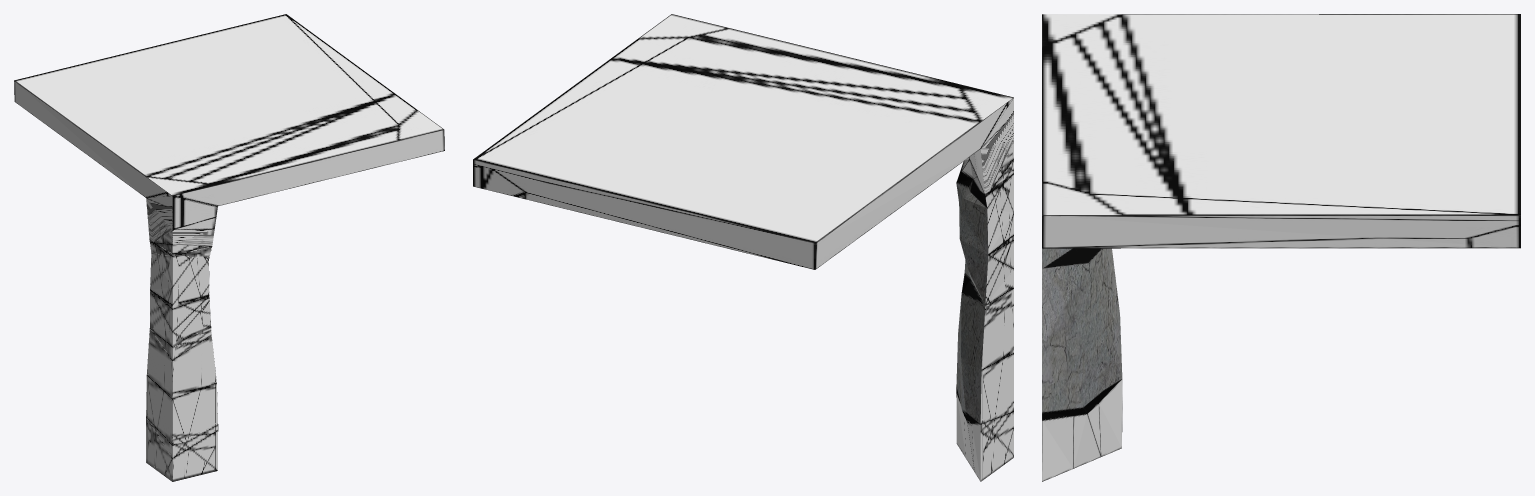
The model's file is EspacioPirateriaEsquinaAperturaInteriorNI.gltf.
The picture shows the model from 3 angles, left to right: view 1: azimuth 30°, elevation 25°; view 2: azimuth 150°, elevation 25°; view 3: azimuth 270°, elevation 25°; orthographic projection. The views are drawn at different scales.
Parts seen in each view (by area): view 1: Cubo.27; view 2: Cubo.27; view 3: Cubo.27.
Boxes of the visible parts, x1,y1,x2,y2 form: Cubo.27: [14, 14, 444, 481]; Cubo.27: [473, 14, 1013, 481]; Cubo.27: [1042, 14, 1520, 481].
Bounding box in the file's own units: 2 × 2 × 2.
Materials: 1 (1 with a texture image).
